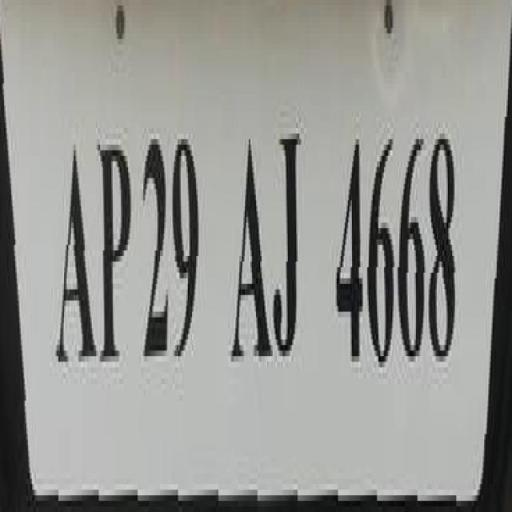number plate: (12, 11, 512, 495)
